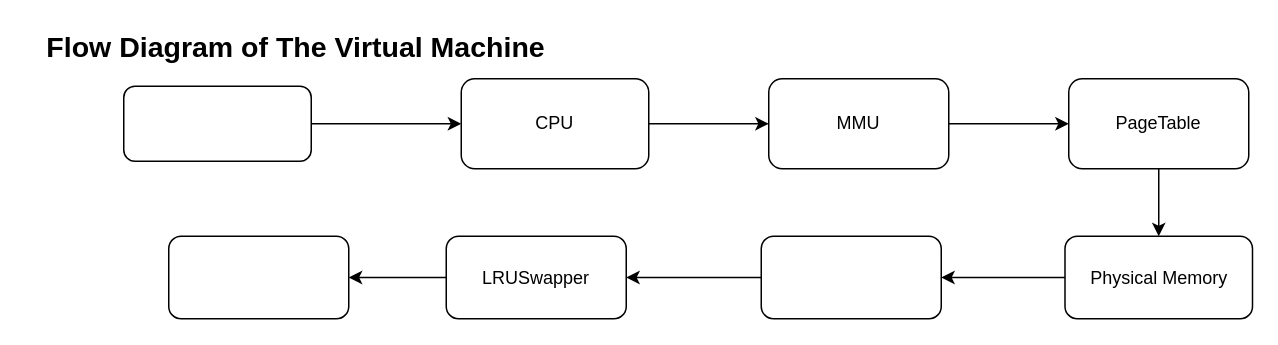
Some shapes in this 1278 by 345 pixel diagram are drawn without their labels. The box of each missing label's shape, as (x1, y1, x2, y2) in pixels:
Disk Manager: (167, 235, 349, 319)
PageFaultHandler: (760, 235, 941, 319)
Virtual Machine: (122, 85, 311, 161)
